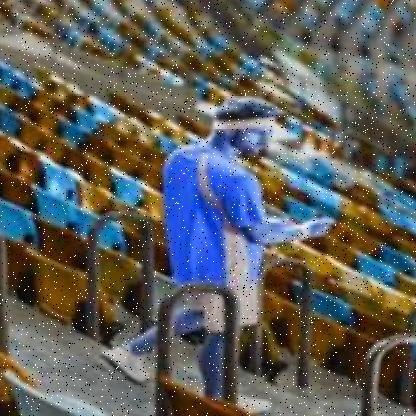stair_down: (83, 285, 245, 416)
